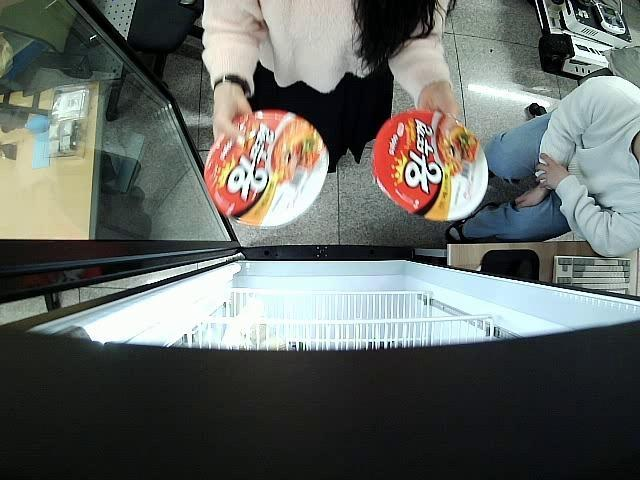10_wangTtukkeong: (204, 113, 330, 226), (374, 112, 488, 220)
